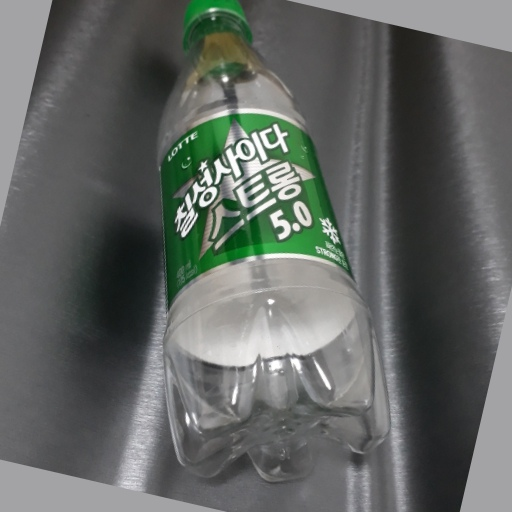Plastic_0: (155, 1, 391, 486)
